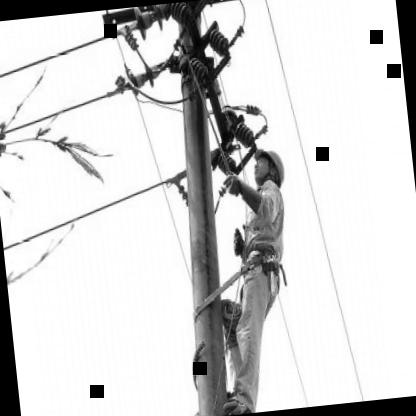helmet: (248, 145, 288, 186)
